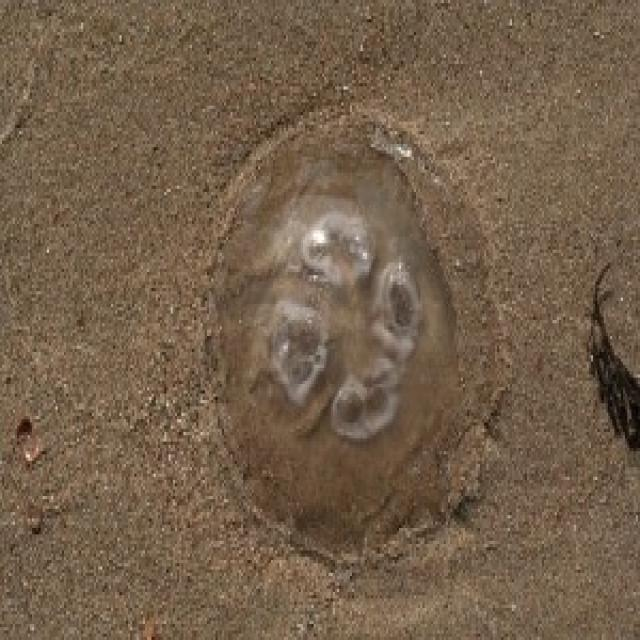Jellyfish: (176, 90, 501, 575)
